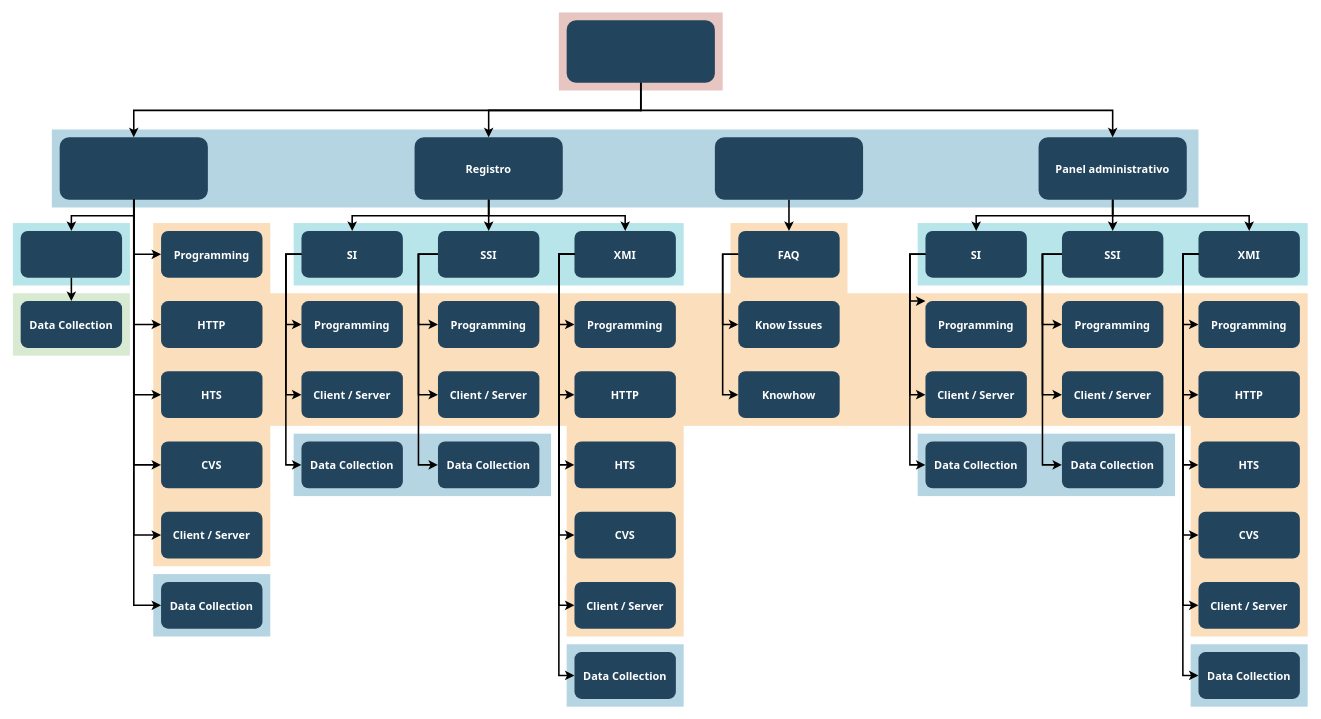
Some shapes in this 1321 by 719 pixel diagram are drawn without their labels. Here are the shapes that lost their labels. From the top down, the box of each, then its label:
(566, 20, 714, 82): Inicio
(59, 137, 207, 199): Cliente Web
(714, 137, 863, 199): Autenticaciónfwe
(20, 230, 122, 277): Regular Report
